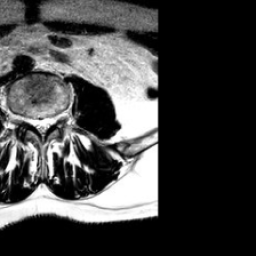CCS_normal: (38, 108, 46, 146)
LFS_normal: (52, 104, 58, 132)
LLS_normal: (46, 108, 52, 137)
RFS_normal: (24, 106, 31, 133)
RLS_normal: (31, 108, 38, 135)
